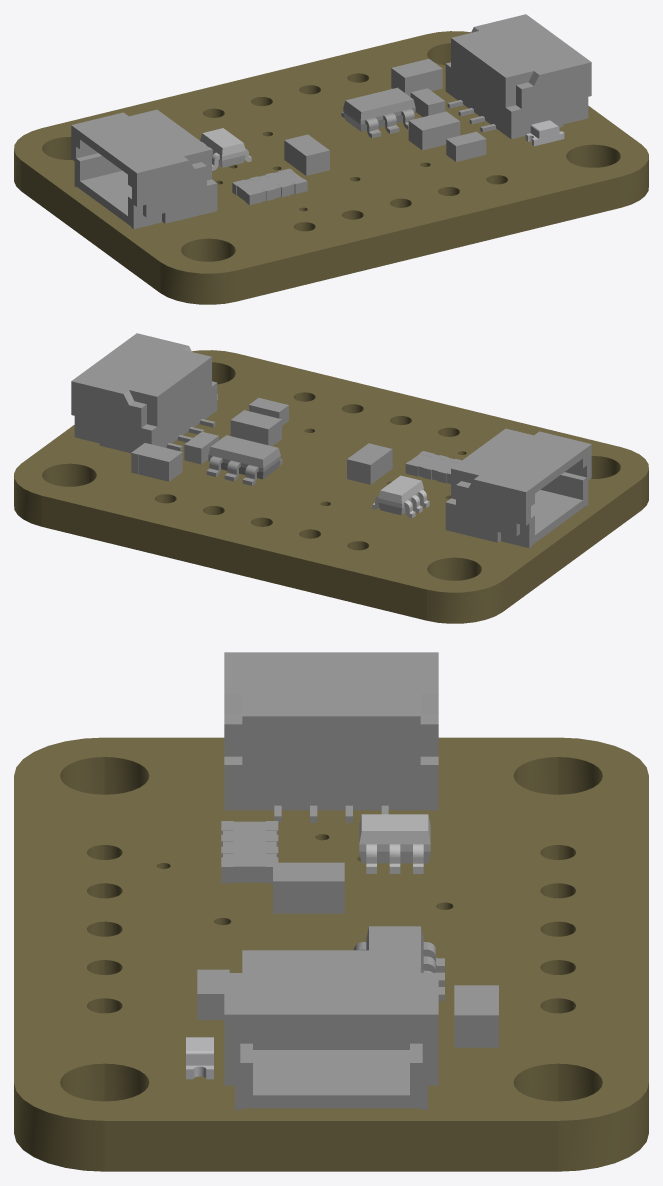
File: ada-5649.glb
The picture shows the model from 3 angles, top to bottom: view 1: azimuth 30°, elevation 25°; view 2: azimuth 150°, elevation 25°; view 3: azimuth 270°, elevation 25°; orthographic projection. The views are drawn at different scales.
Visible parts, largest first — view 1: 0.16666666666666666_0.16666666666666666_0.08333333333333333_, 0.3333333333333333_0.3333333333333333_0.3333333333333333_0, 0.5_0.5_0.5_0.85, 0.5833333333333334_0.5833333333333334_0.5833333333333334_0.8; view 2: 0.16666666666666666_0.16666666666666666_0.08333333333333333_, 0.3333333333333333_0.3333333333333333_0.3333333333333333_0, 0.5_0.5_0.5_0.85; view 3: 0.16666666666666666_0.16666666666666666_0.08333333333333333_, 0.3333333333333333_0.3333333333333333_0.3333333333333333_0, 0.5_0.5_0.5_0.85, 0.5833333333333334_0.5833333333333334_0.5833333333333334_0.8.
Part boxes in pixels (x1=…): 0.16666666666666666_0.16666666666666666_0.08333333333333333_: x1=14, y1=31, x2=648, y2=304; 0.3333333333333333_0.3333333333333333_0.3333333333333333_0: x1=71, y1=14, x2=591, y2=229; 0.5_0.5_0.5_0.85: x1=200, y1=128, x2=251, y2=170; 0.5833333333333334_0.5833333333333334_0.5833333333333334_0.8: x1=525, y1=120, x2=564, y2=146; 0.16666666666666666_0.16666666666666666_0.08333333333333333_: x1=14, y1=350, x2=648, y2=623; 0.3333333333333333_0.3333333333333333_0.3333333333333333_0: x1=71, y1=333, x2=591, y2=548; 0.5_0.5_0.5_0.85: x1=372, y1=475, x2=429, y2=518; 0.16666666666666666_0.16666666666666666_0.08333333333333333_: x1=14, y1=737, x2=648, y2=1171; 0.3333333333333333_0.3333333333333333_0.3333333333333333_0: x1=197, y1=652, x2=498, y2=1109; 0.5_0.5_0.5_0.85: x1=359, y1=814, x2=430, y2=873; 0.5833333333333334_0.5833333333333334_0.5833333333333334_0.8: x1=186, y1=1037, x2=213, y2=1079.
Size of the model in its own units: 2.54 by 0.4529 by 1.78.
